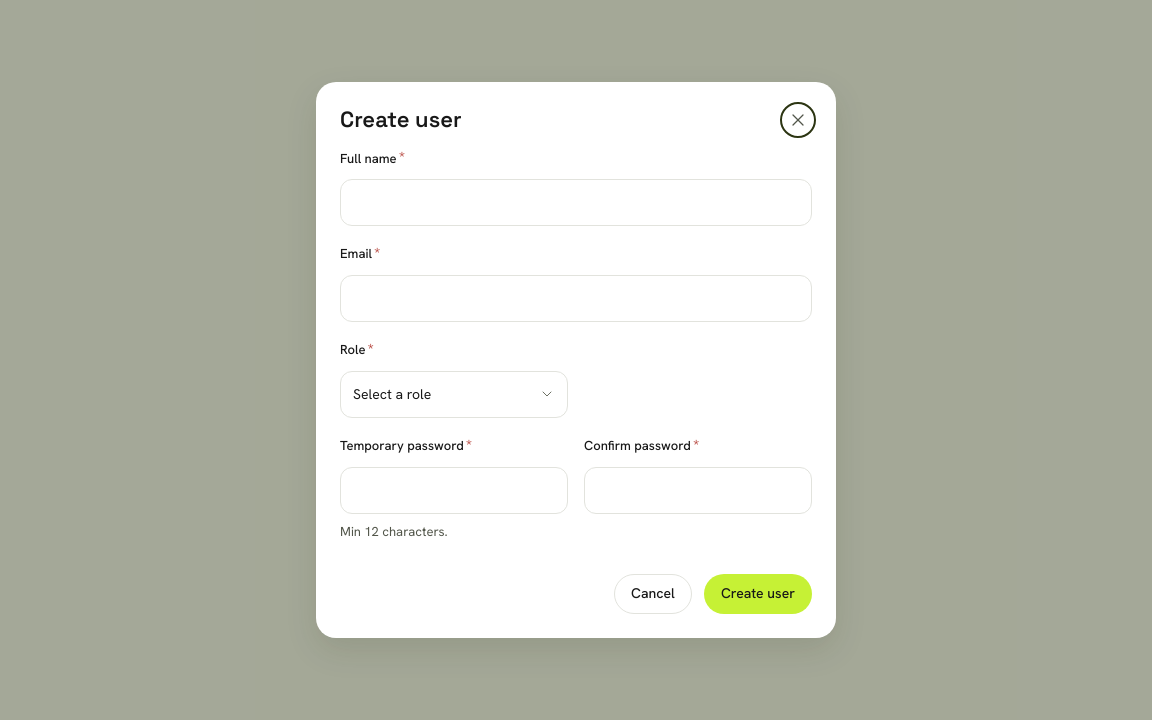
Test case: UserFormModal — MDA is chosen per role › refuses to submit an MDA Admin with no MDA chosen
Type "New Person" into the field labelled "Full name".
click(576, 203); type("New Person")  # box [340, 179, 812, 226]
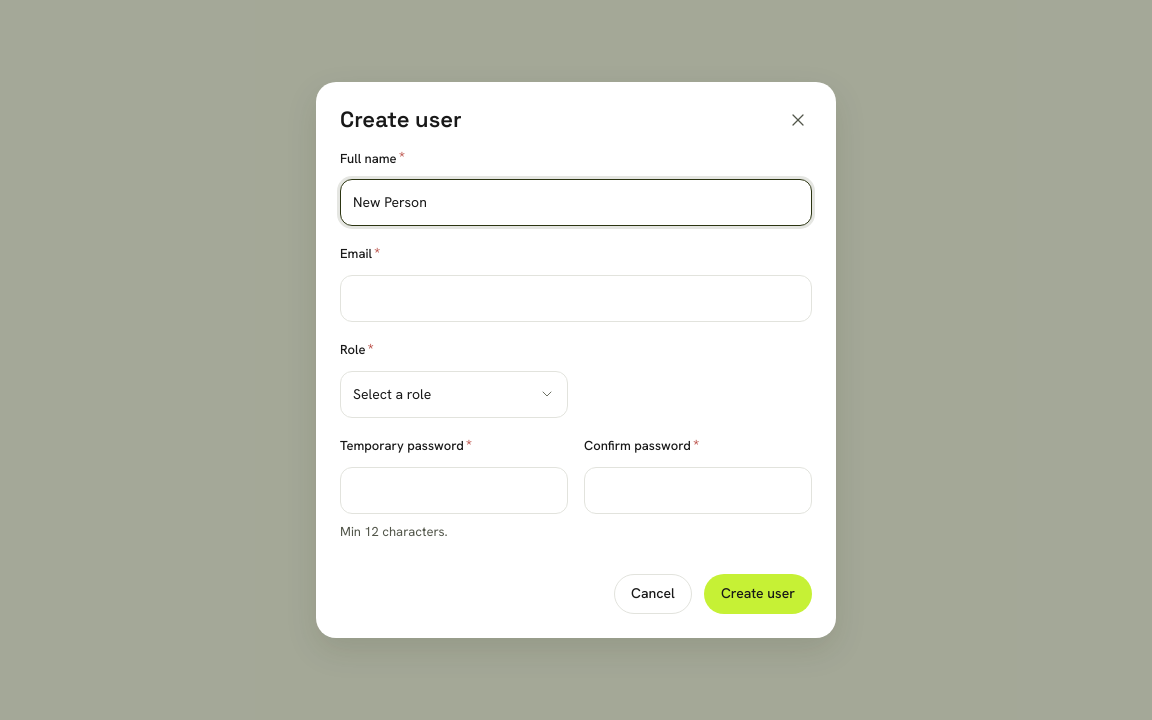
Type "new.person@example.test" into the field labelled "Email".
click(576, 298); type("new.person@example.test")  # box [340, 275, 812, 322]
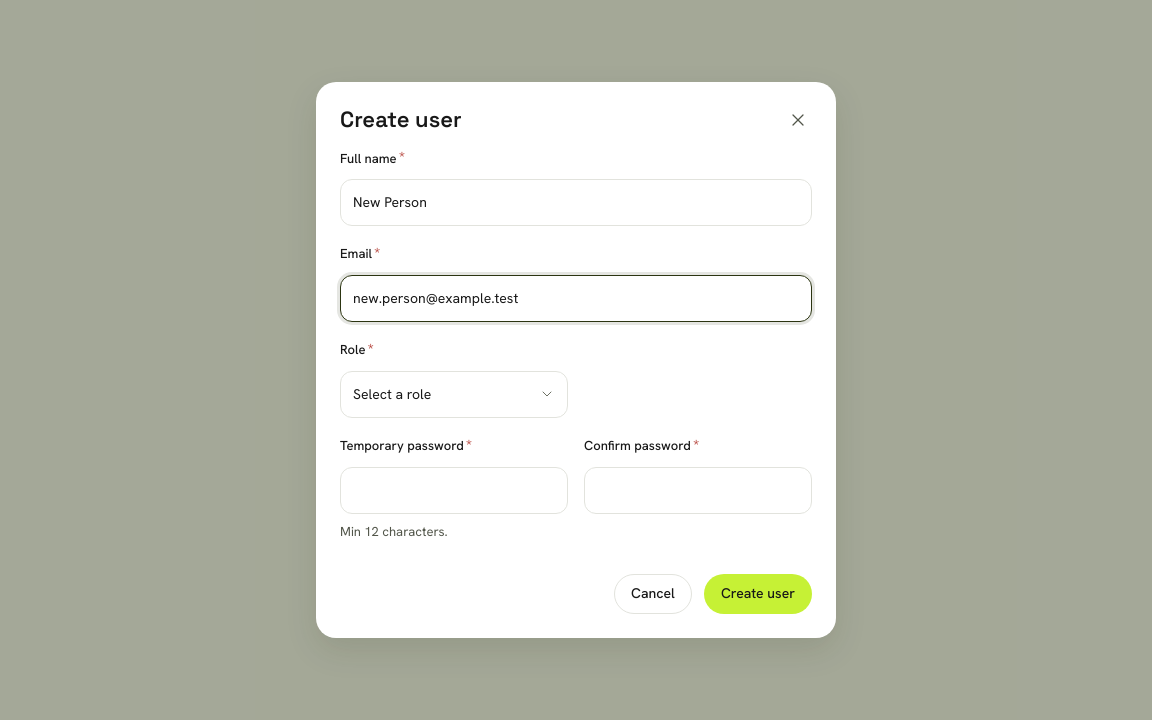
Type "Sup3rStr0ng!Pass" into the password field labelled "Temporary password".
click(454, 490); type("Sup3rStr0ng!Pass")  # box [340, 466, 568, 514]
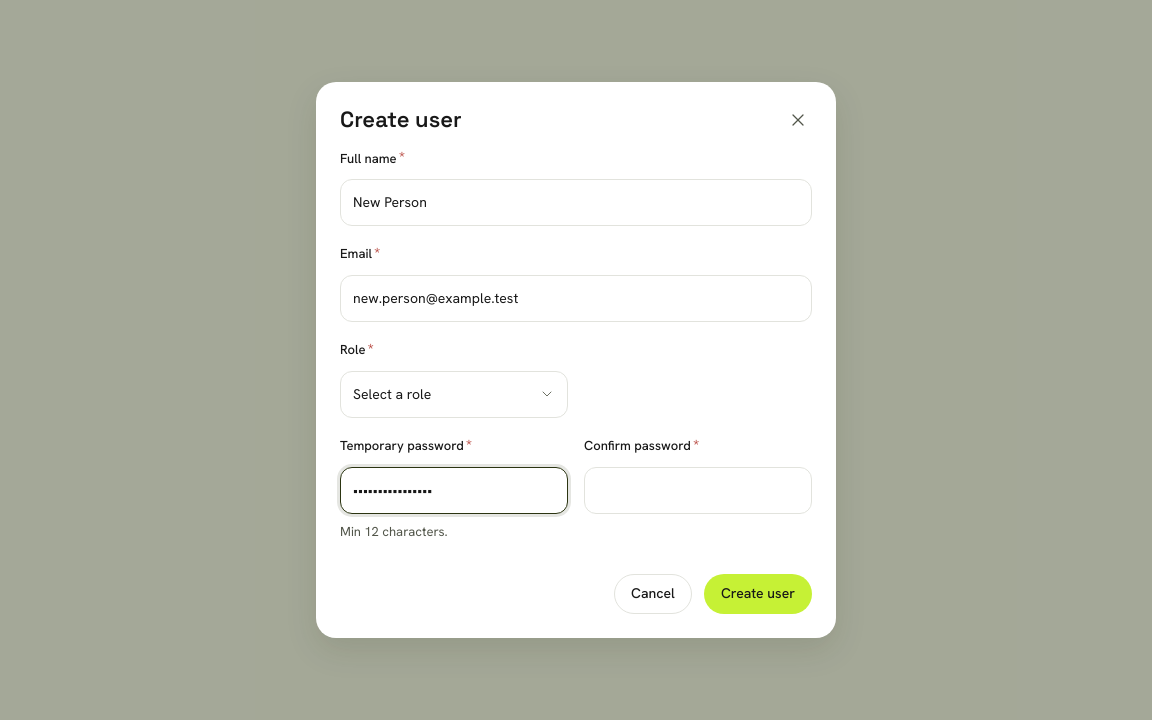
Type "Sup3rStr0ng!Pass" into the password field labelled "Confirm password".
click(698, 490); type("Sup3rStr0ng!Pass")  # box [584, 466, 812, 514]
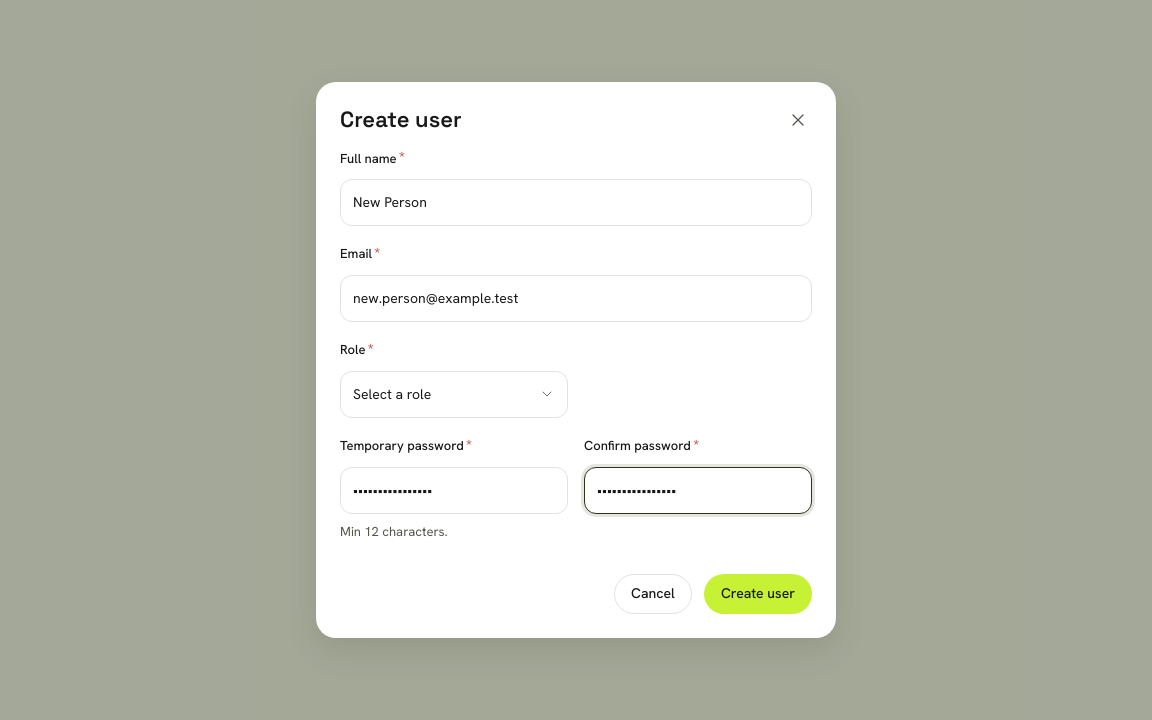
Select "MDA Admin" in the dropdown labelled "Role" at (454, 394), box [340, 371, 568, 418]
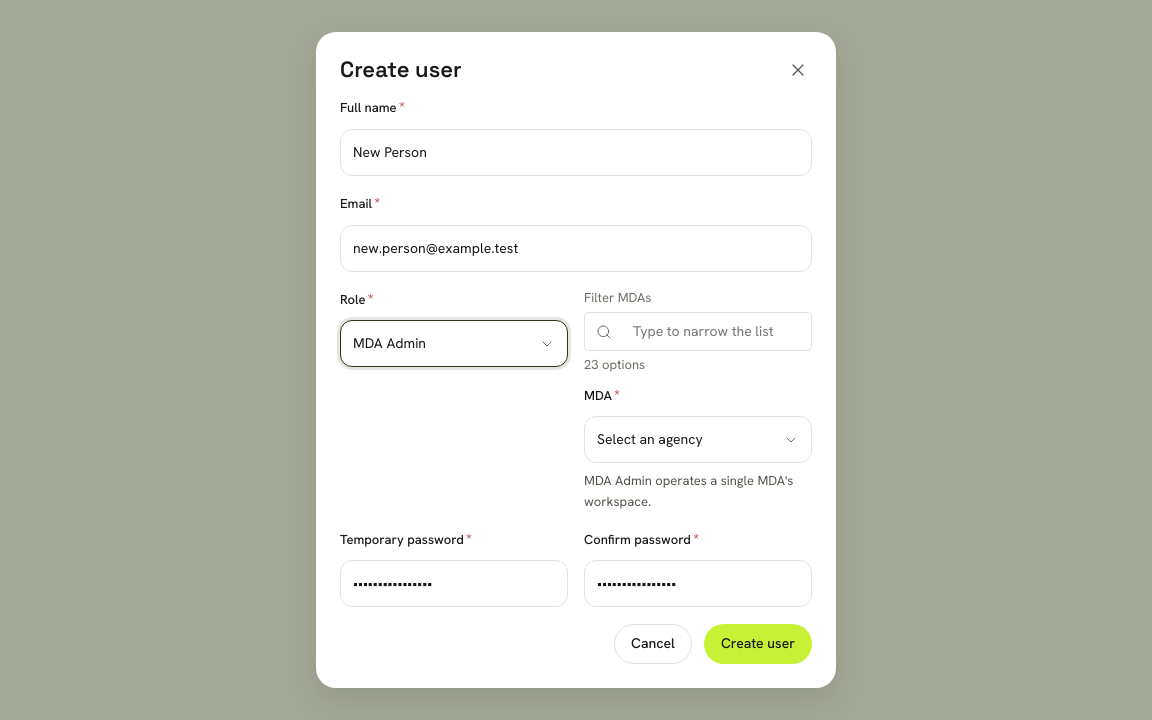
Click the button "Create user".
click(758, 644)  # box [704, 624, 812, 664]
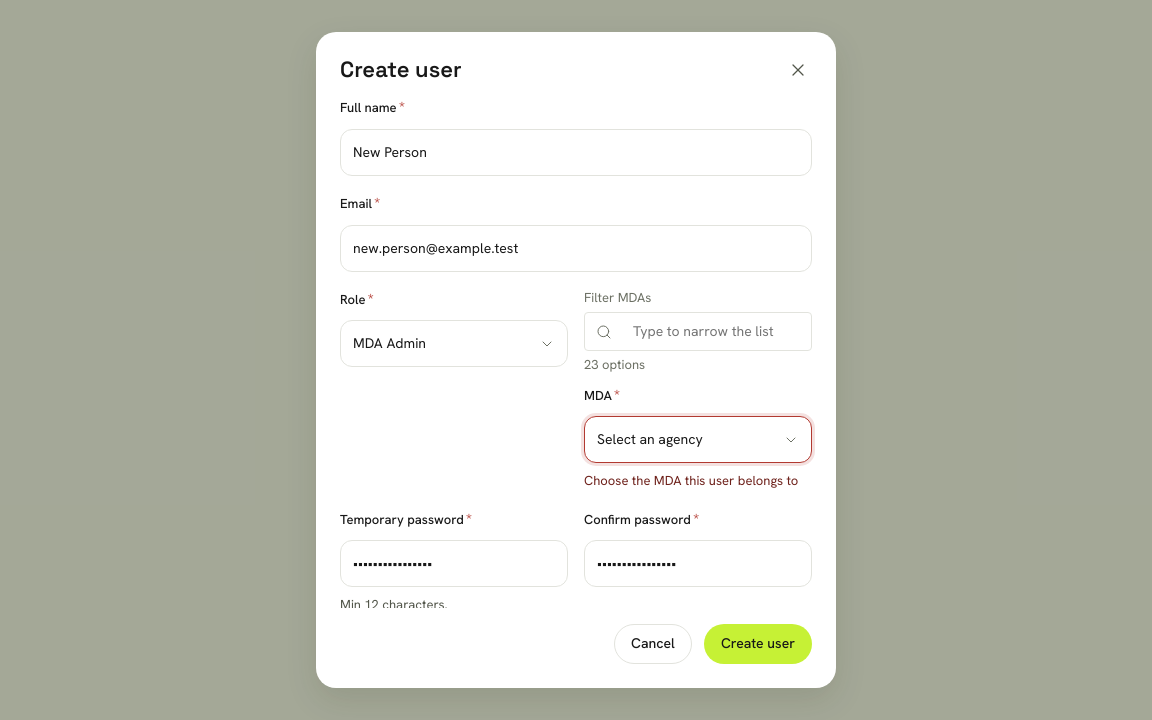
Result: the text "Choose the MDA this user belongs to" is shown at [584, 471, 812, 492]
